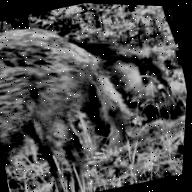boar: (0, 14, 145, 192), (72, 6, 192, 140)
